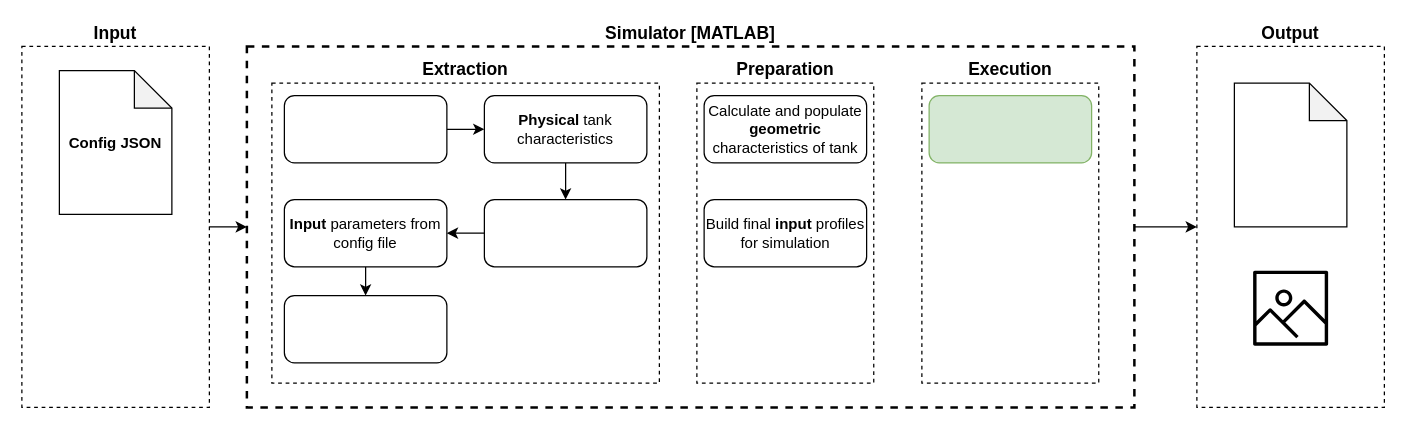
The diagram is 1406 pixels wide and 430 high, and some of its shapes have lost their labels. Each missing label, with the centre of its shape:
"Call Simulation model" goes at point 1010,128.
"Events info" goes at point 565,232.
"metadata of entry" goes at point 365,128.
"Plots" goes at point 1290,307.
"Results JSON" goes at point 1290,154.
"simulation parameters" goes at point 365,328.
